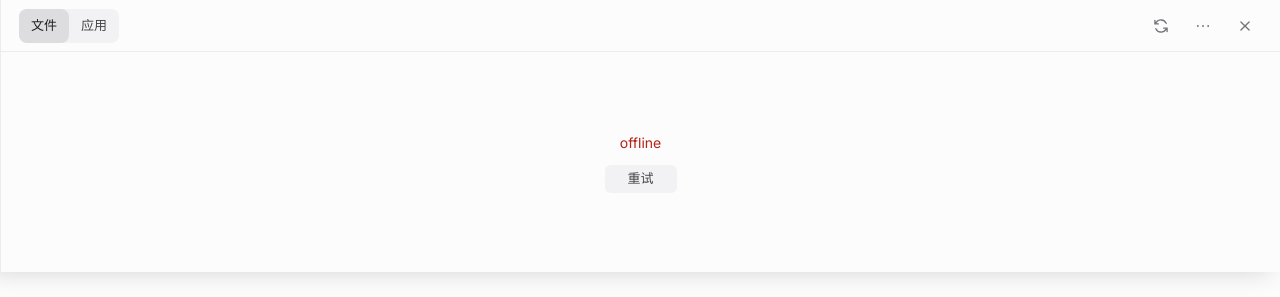
Test: CloudArtifactsPanel › replaces file motion with an actionable error and retries
This screenshot has width=1280, height=297.
Expected: the message "offline 重试" is shown, 604,134 -> 676,192
What coordinates should you click on to do the following:
click the button "重试"
I would click on:
 (640, 178)
Its box is 604,164 -> 676,192.
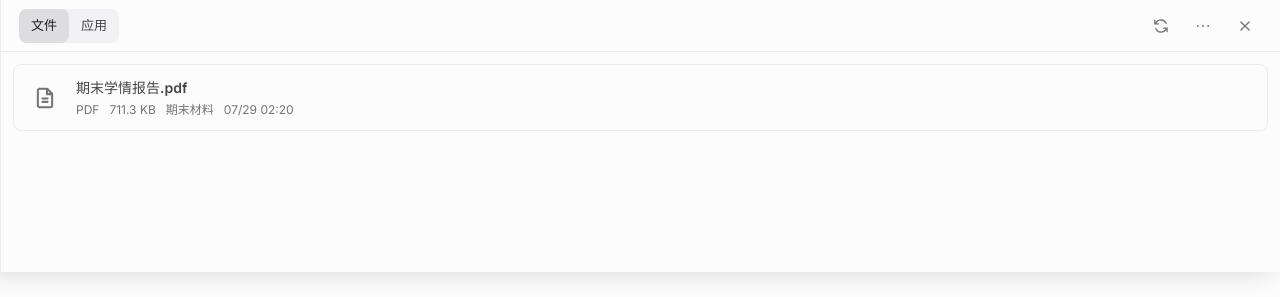
Result: the text "期末学情报告.pdf" is shown at 76,79 -> 187,96
